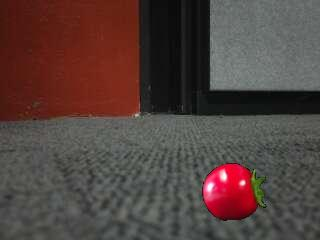Tomato: (200, 162, 268, 222)
